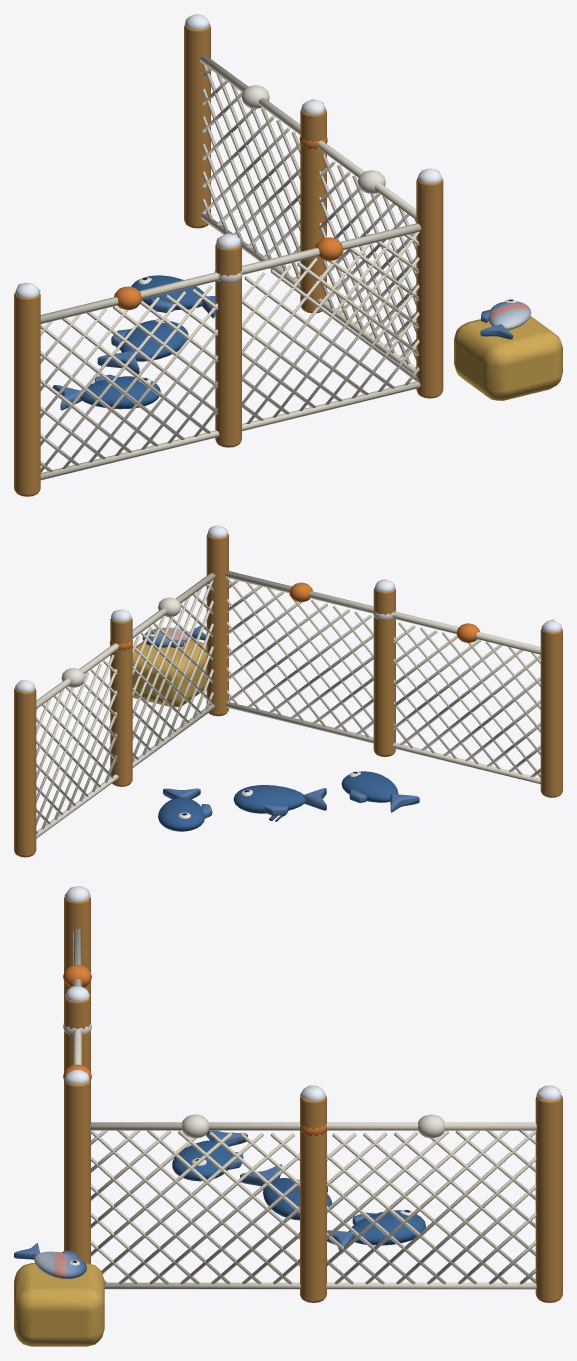
The model's file is fish_net.glb.
The picture shows the model from 3 angles, top to bottom: view 1: azimuth 30°, elevation 25°; view 2: azimuth 150°, elevation 25°; view 3: azimuth 270°, elevation 25°; orthographic projection. The views are drawn at different scales.
Parts seen in each view (by area): view 1: basket; view 2: basket; view 3: basket.
Boxes of the visible parts, left/top/right/bottom form: basket: left=14, top=14, right=562, bottom=496; basket: left=14, top=525, right=562, bottom=857; basket: left=14, top=886, right=562, bottom=1346.
Size of the model in its own units: 3.38 by 1.39 by 3.02.
Materials: 2 (1 with a texture image).
